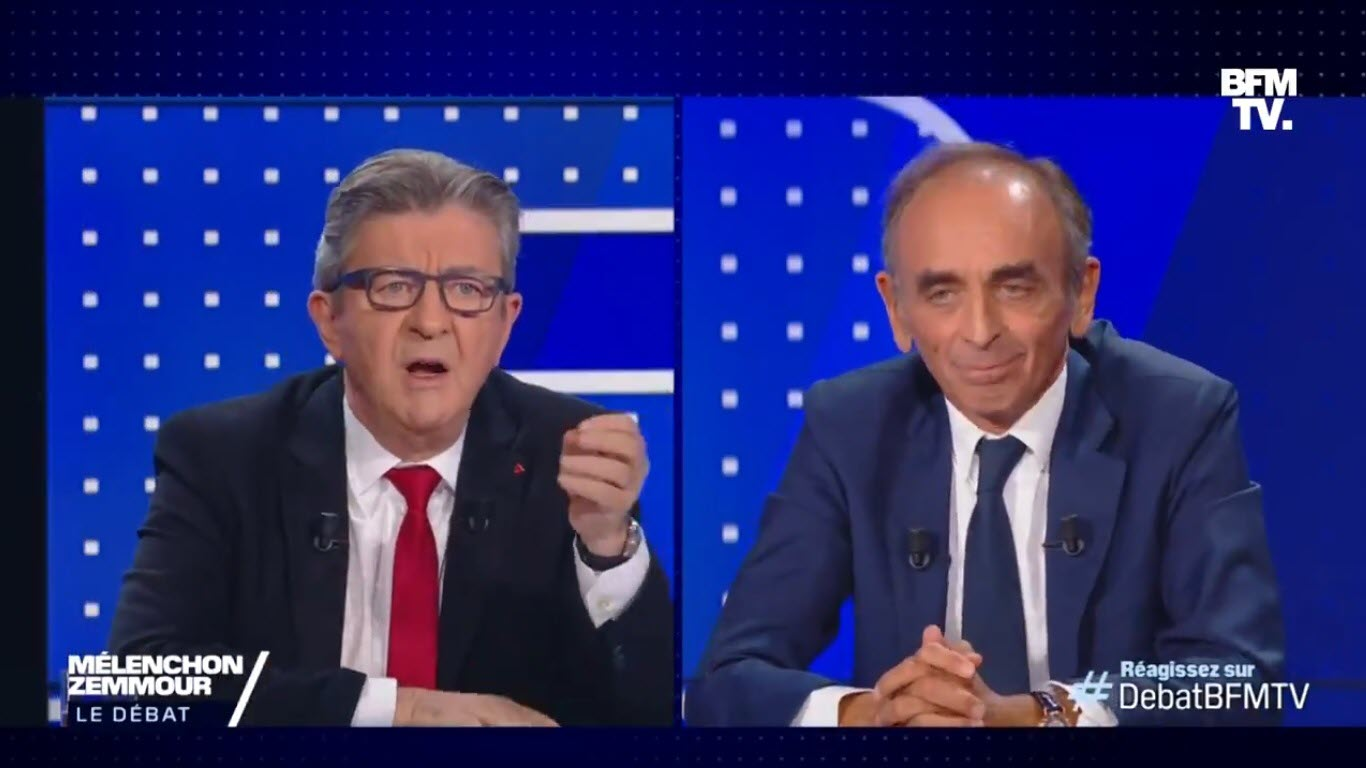without_mask: (877, 174, 1103, 408), (310, 199, 524, 435)
